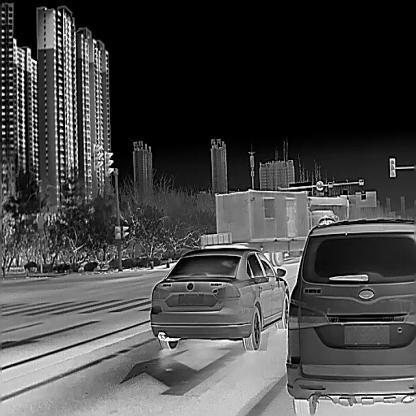car: (285, 216, 415, 415), (149, 243, 289, 350), (214, 188, 338, 266), (306, 194, 349, 220)
